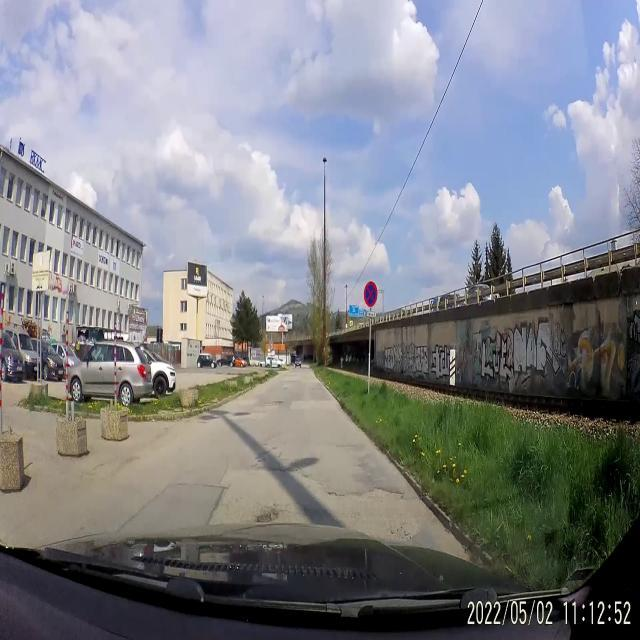Pothole: (365, 478, 413, 506), (250, 500, 288, 526), (324, 484, 362, 506), (266, 395, 284, 411)
